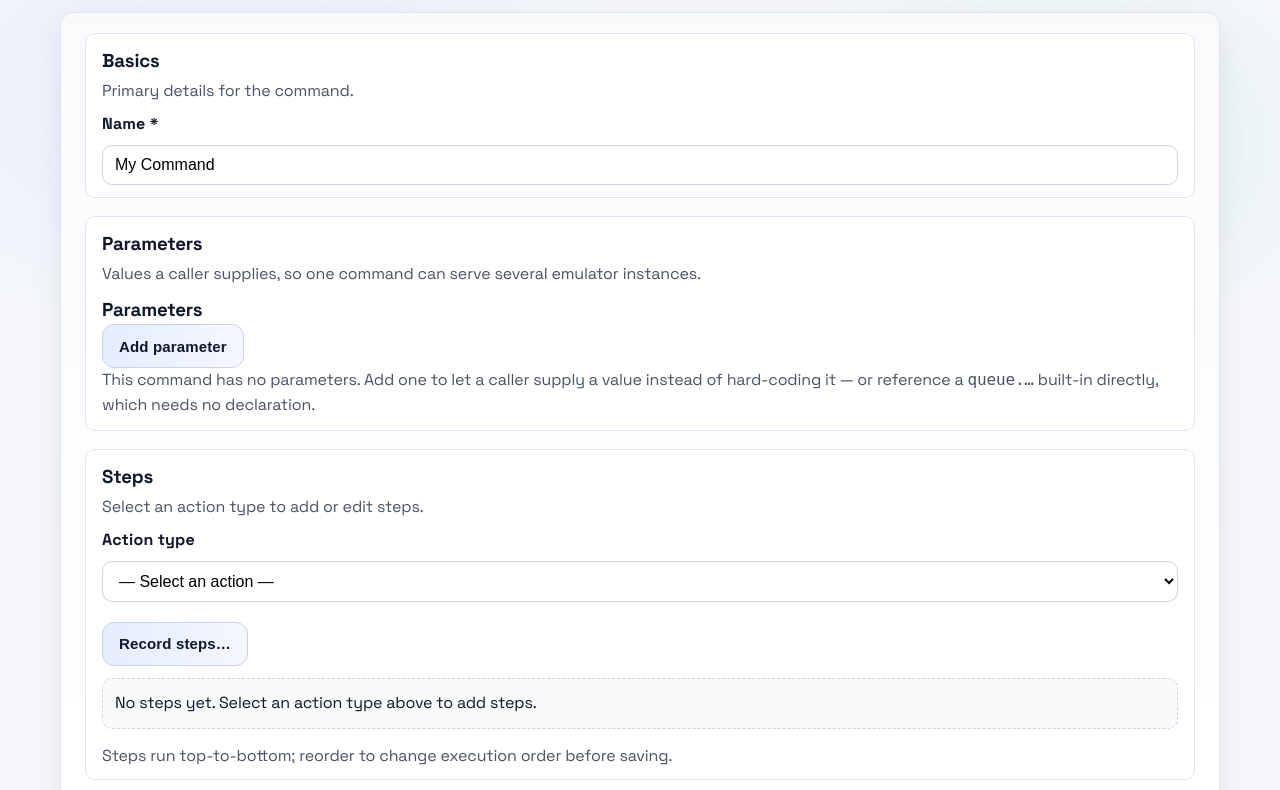
Test case: CommandForm — US1: selector and scaffolding › shows Ensure Game Running panel when EnsureGameRunning is selected
Select "Ensure Game Running" in the dropdown labelled "Action type" at {"x": 640, "y": 581}, box [102,561,1178,602]
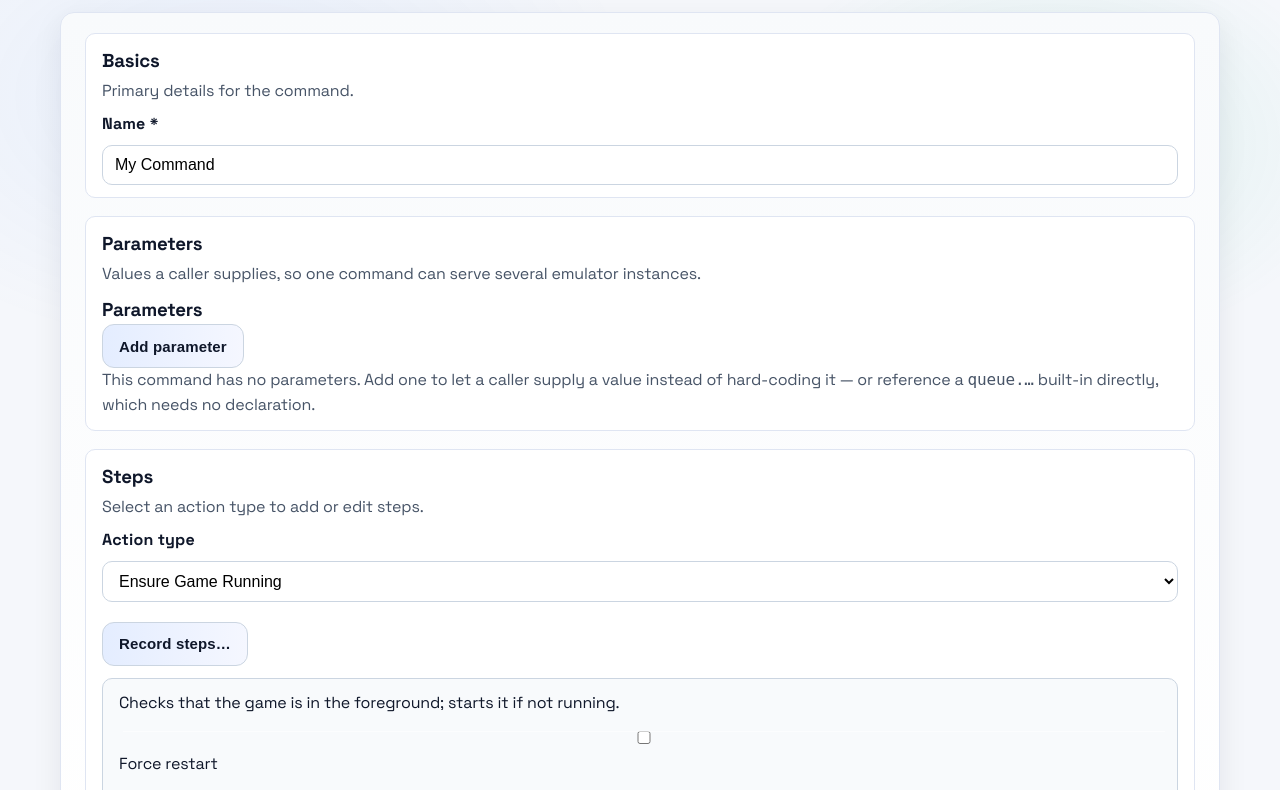
expect the text "Checks that the game is in the foreground" is shown: met, box [119,692,620,713]
